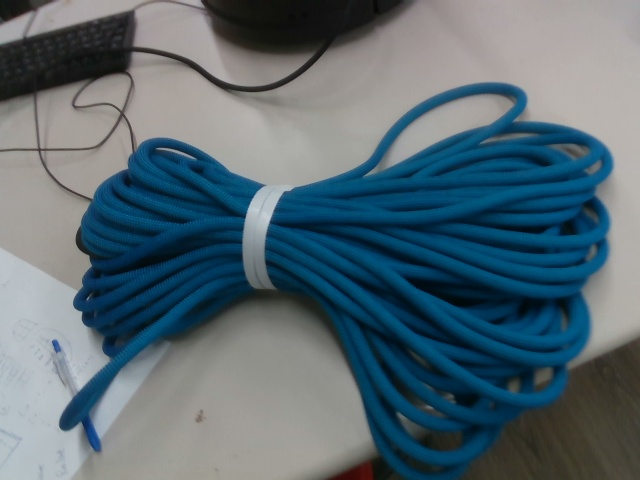rope: (57, 79, 618, 480)
